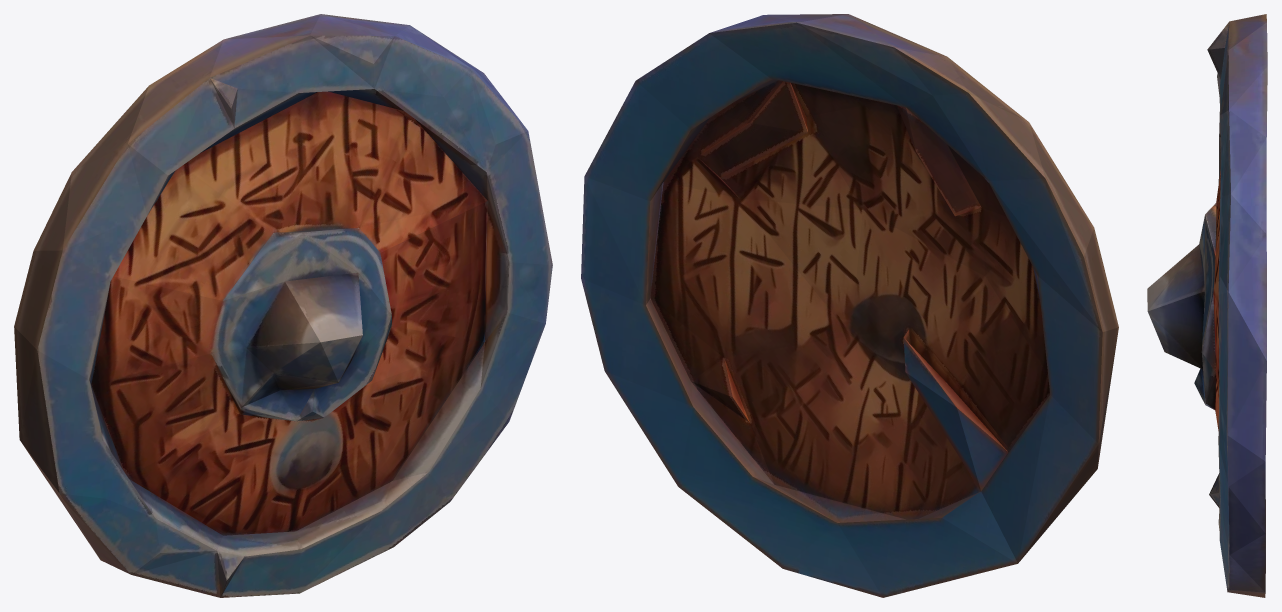
Rendered from wooden_button_seal.glb.
3 views of the same model, side by side, from view 1: azimuth 30°, elevation 25°; view 2: azimuth 150°, elevation 25°; view 3: azimuth 270°, elevation 25° (orthographic). The views are drawn at different scales.
Visible parts, largest first — view 1: TexturedMesh_.obj; view 2: TexturedMesh_.obj; view 3: TexturedMesh_.obj.
Part boxes in pixels (<box>): TexturedMesh_.obj: <box>14,14,552,597</box>; TexturedMesh_.obj: <box>581,14,1118,597</box>; TexturedMesh_.obj: <box>1147,14,1267,597</box>.
Size of the model in its own units: 1.93 by 1.97 by 0.4052.
Materials: 1 (1 with a texture image).
